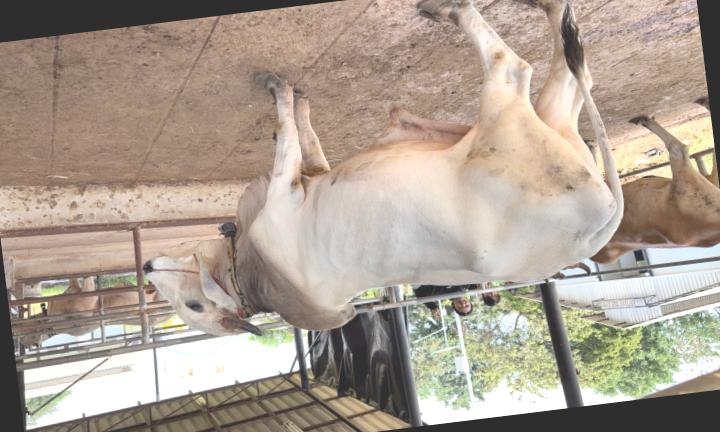Brahman: (145, 0, 623, 335)
